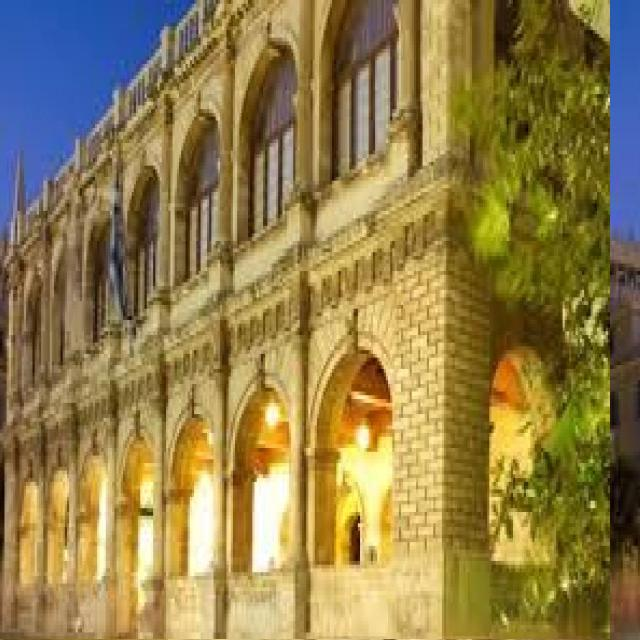Loggia: (1, 1, 611, 640)
